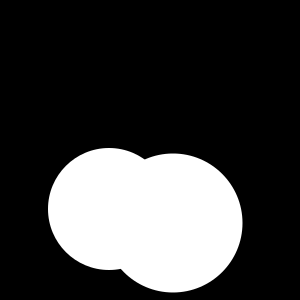rectangle: (103, 153, 242, 292), (48, 148, 170, 270)
